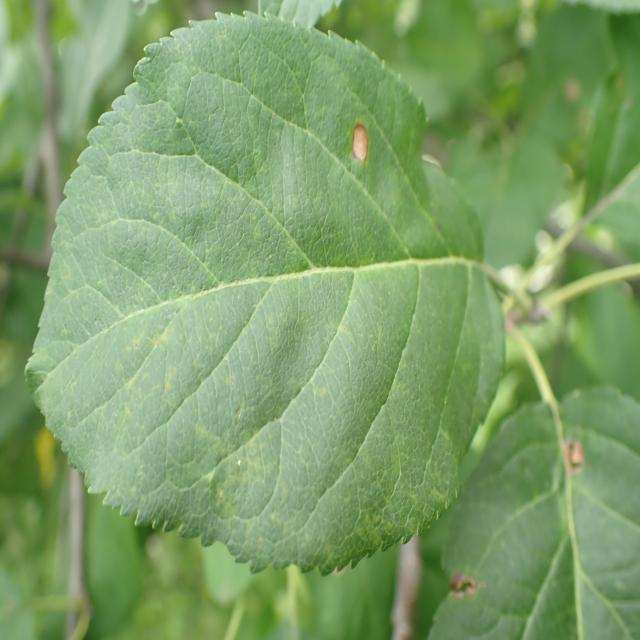Black Rot: (341, 95, 384, 201), (433, 562, 498, 616), (548, 434, 596, 496)
